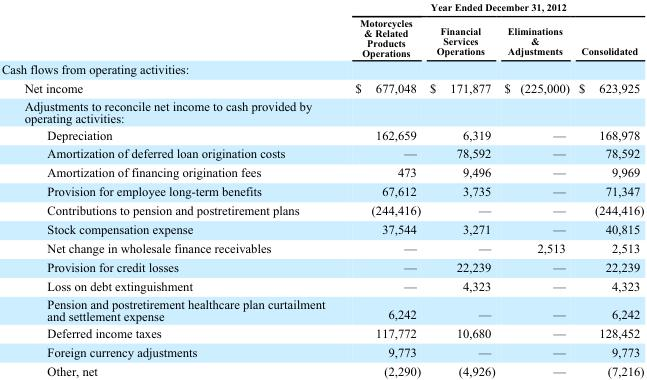table: (0, 1, 643, 377)
table column: (0, 1, 339, 377), (339, 1, 424, 377), (424, 1, 499, 377), (499, 1, 573, 377), (573, 1, 643, 377)
table column header: (0, 1, 643, 59)
table projected row header: (0, 96, 643, 126), (0, 59, 643, 78)
table row: (0, 14, 643, 59), (0, 96, 643, 126), (0, 294, 643, 324), (0, 59, 643, 78), (0, 143, 643, 162), (0, 162, 643, 181), (0, 181, 643, 200), (0, 200, 643, 219), (0, 219, 643, 238), (0, 238, 643, 257), (0, 257, 643, 276), (0, 341, 643, 360), (0, 78, 643, 96), (0, 276, 643, 294), (0, 126, 643, 143), (0, 324, 643, 341), (0, 360, 643, 377), (0, 1, 643, 14)
table spanning cell: (339, 1, 643, 14)
